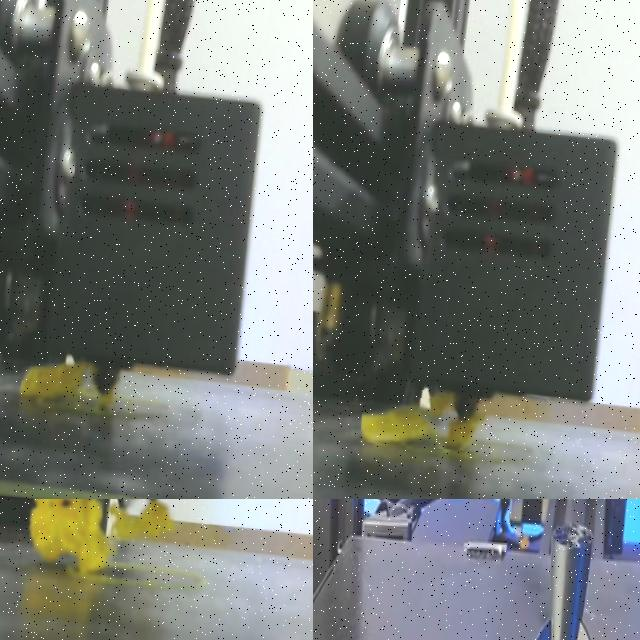spaghetti: (360, 392, 483, 450), (30, 499, 113, 572), (19, 362, 119, 413), (113, 502, 172, 539)
